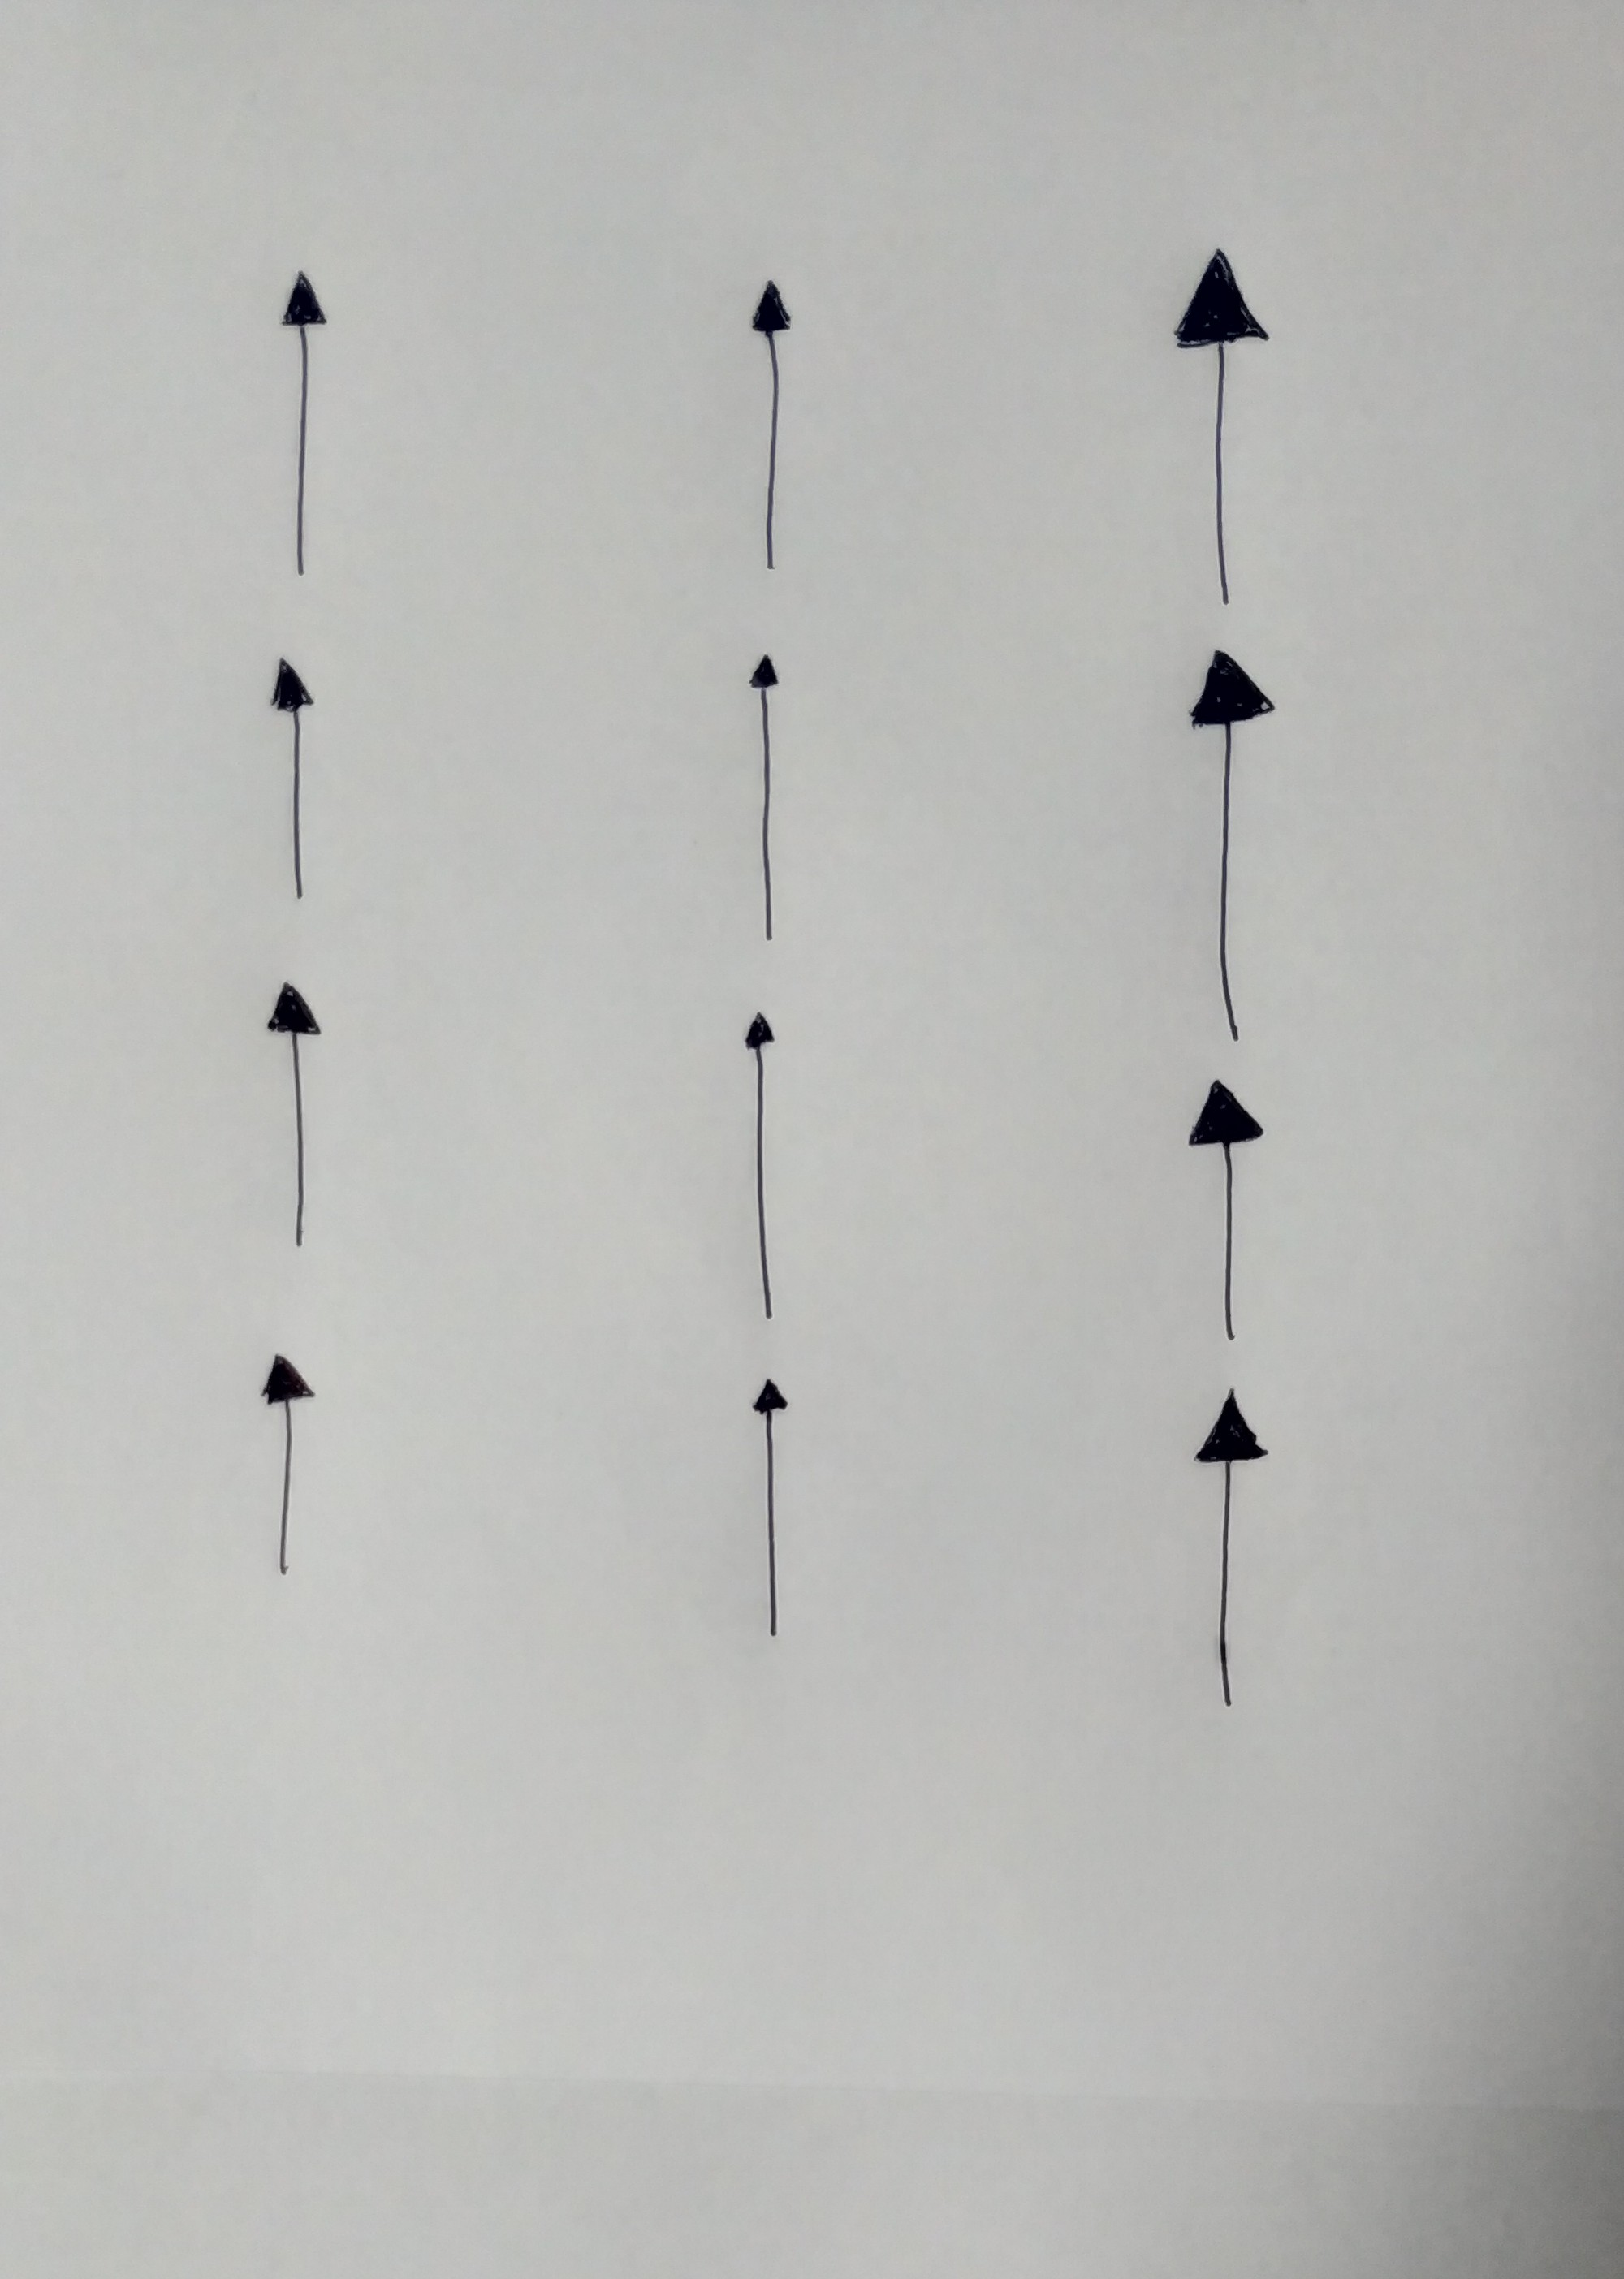arrow_line_up: (1164, 244, 1290, 620), (1178, 647, 1271, 1045), (1190, 1385, 1271, 1710), (1185, 1075, 1271, 1357), (736, 278, 805, 585), (265, 267, 329, 590), (262, 977, 332, 1260), (255, 652, 329, 912), (735, 1010, 793, 1330), (738, 654, 796, 947), (745, 1372, 798, 1648), (257, 1351, 316, 1590)
